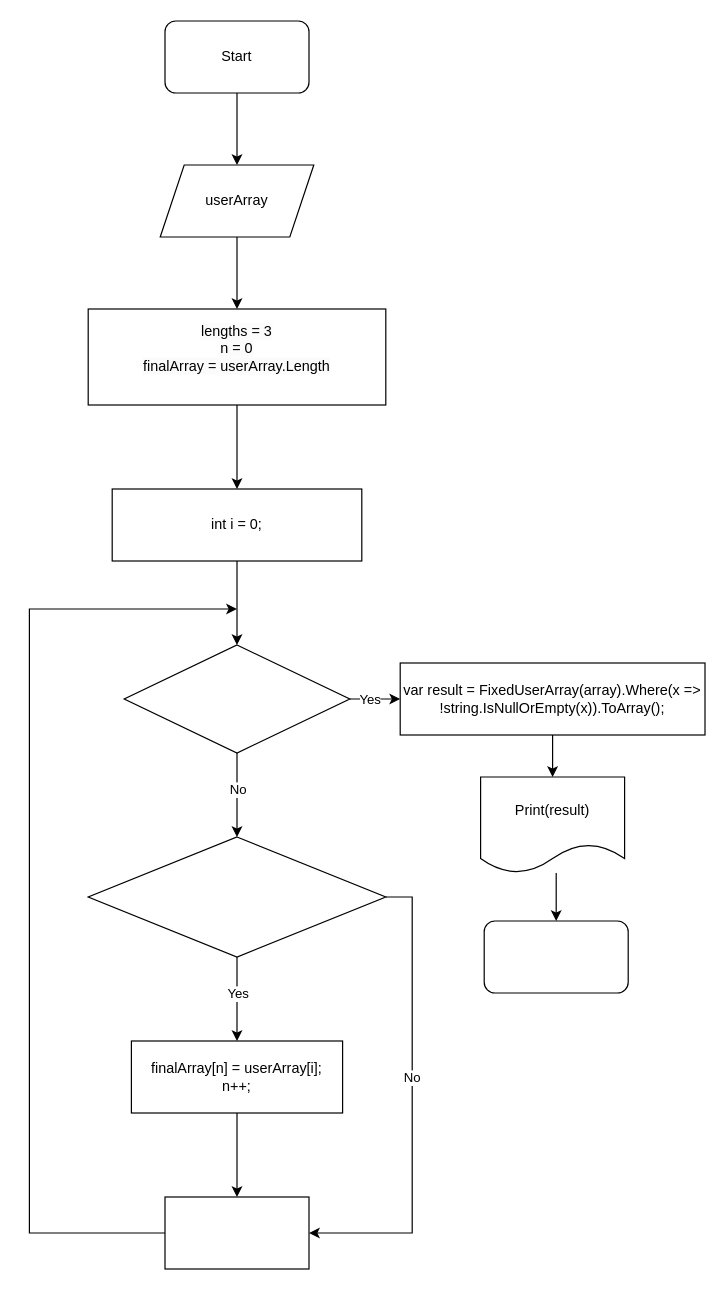
This 726x1290 diagram has some shape labels left out. Each missing label, with the box of its shape:
End: (483, 920, 628, 993)
i < userArray.Length;: (123, 644, 350, 753)
i++;: (164, 1196, 309, 1269)
userArray[i].Length <= lengths: (87, 836, 386, 957)
